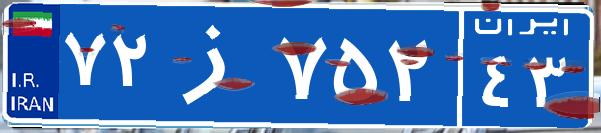2: (385, 28, 445, 110), (110, 28, 158, 105)
3: (525, 38, 570, 115)
4: (475, 38, 525, 113)
5: (330, 28, 385, 110)
7: (273, 28, 330, 110), (57, 26, 110, 107)
ز: (158, 15, 273, 115)
